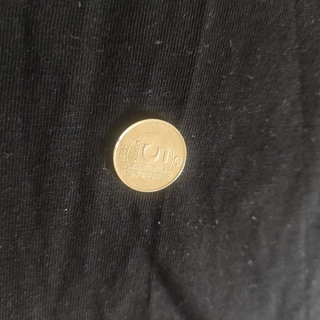5KURUS: (111, 116, 188, 193)
